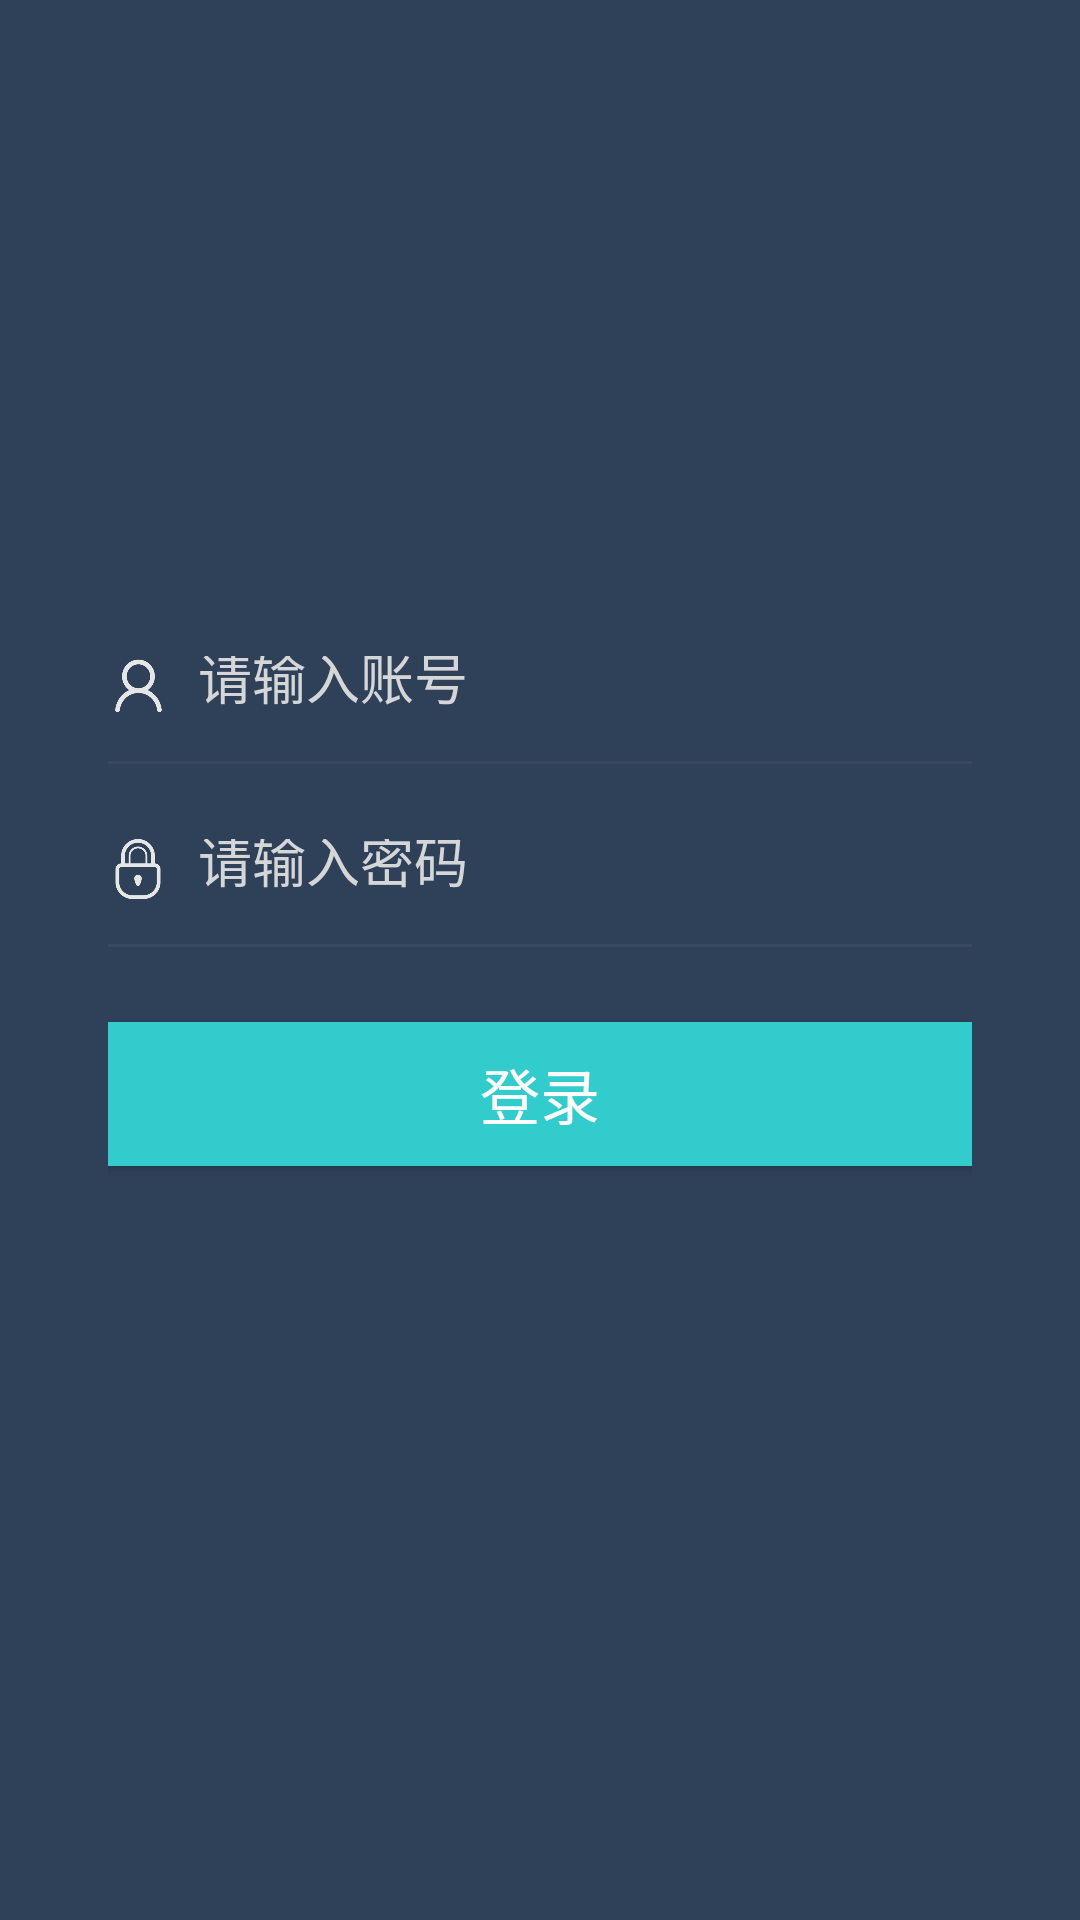

Named icons in this screenshot (1080×1920) and their bounding boxes, (x1, y1, x2, y2):
lock: (115, 839, 161, 899)
user: (115, 659, 162, 712)
